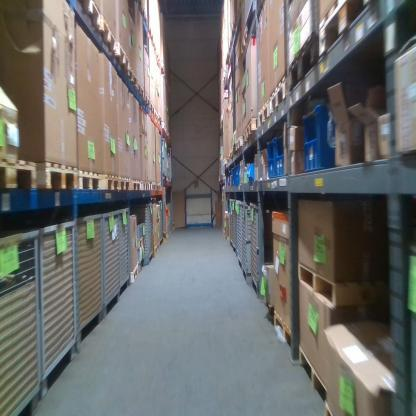pallets: (227, 0, 386, 156), (0, 152, 162, 196), (296, 344, 356, 413), (297, 259, 368, 311)
